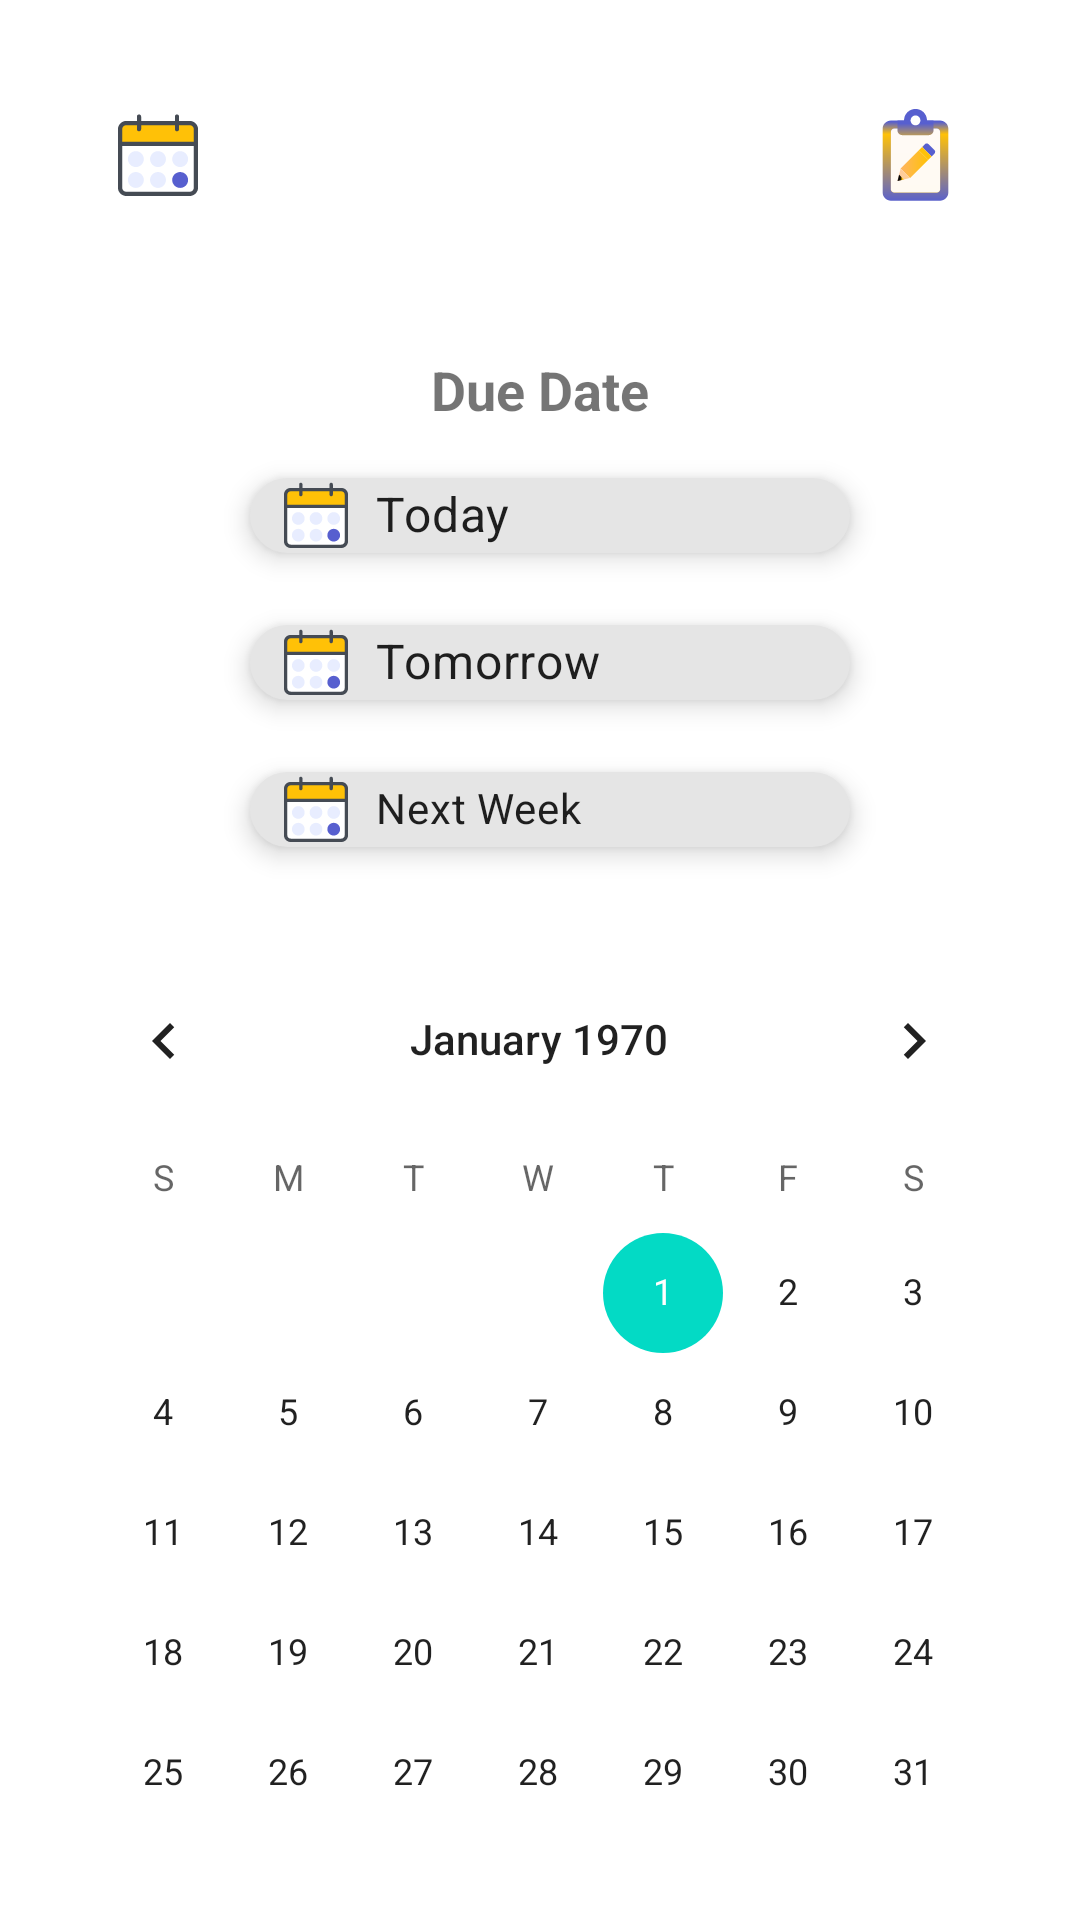

Icons on this 1080 × 1920 Android screen, each with its box as (x1, y1, x2, y2):
planner: (118, 114, 198, 196)
task: (882, 109, 949, 201)
